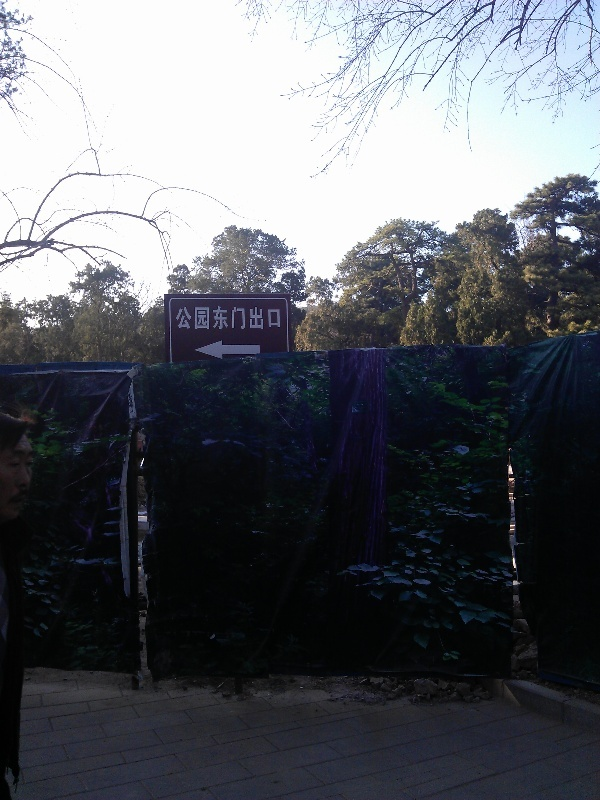text: (177, 306, 192, 331), (193, 306, 208, 331), (209, 306, 224, 331), (225, 306, 240, 331), (241, 306, 256, 331), (257, 306, 272, 331), (273, 306, 283, 331)
